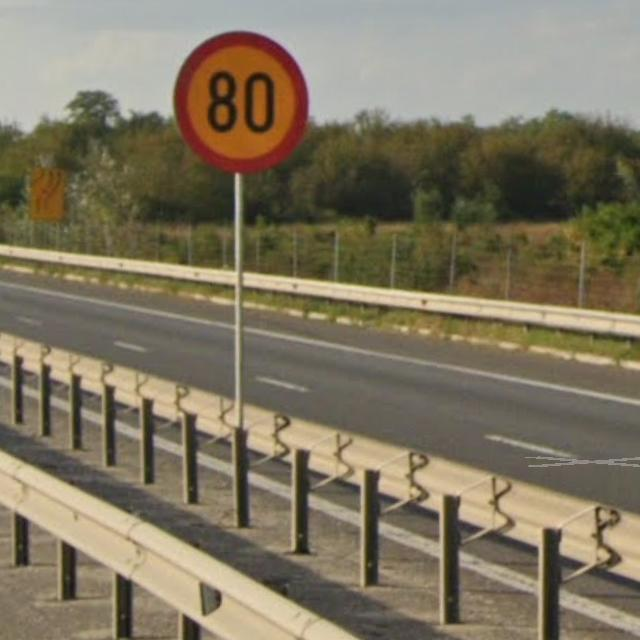forb_speed_over_80: (174, 30, 312, 174)
